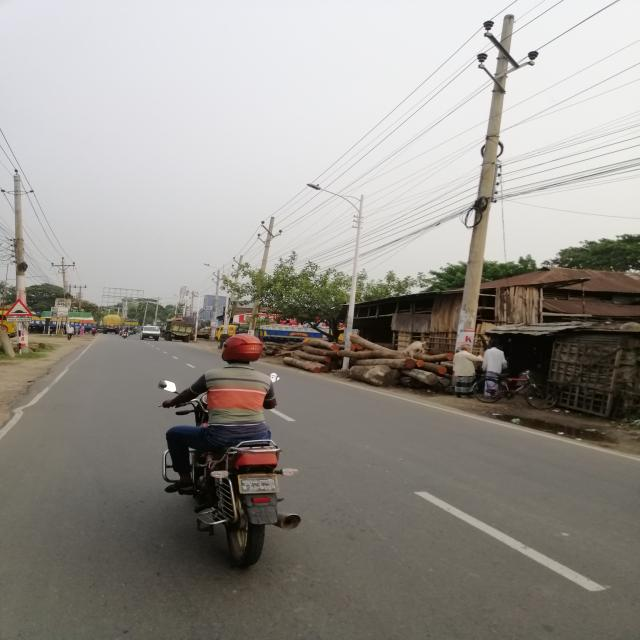Motorbike: (142, 364, 312, 571)
